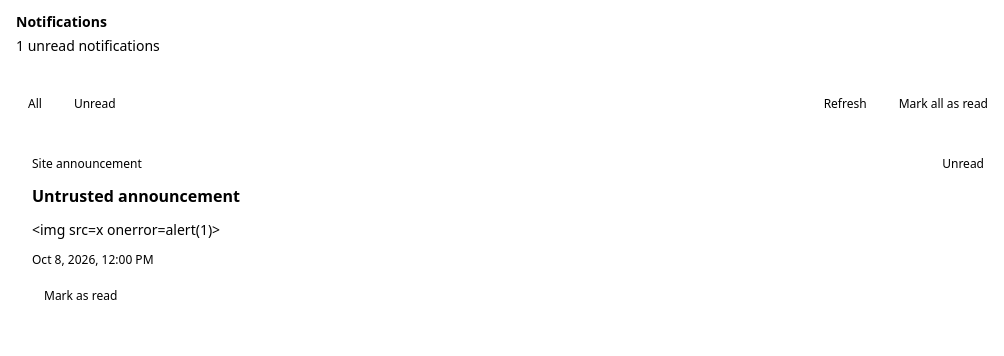
Notification publishing and inbox › renders announcement markup as text and keeps an unread item visible when marking it fails
Check: the text "<img src=x onerror=alert(1)>" is shown, box [32,220,220,239]
Click the button "Mark as read".
click(81, 296)  # box [32,280,129,312]
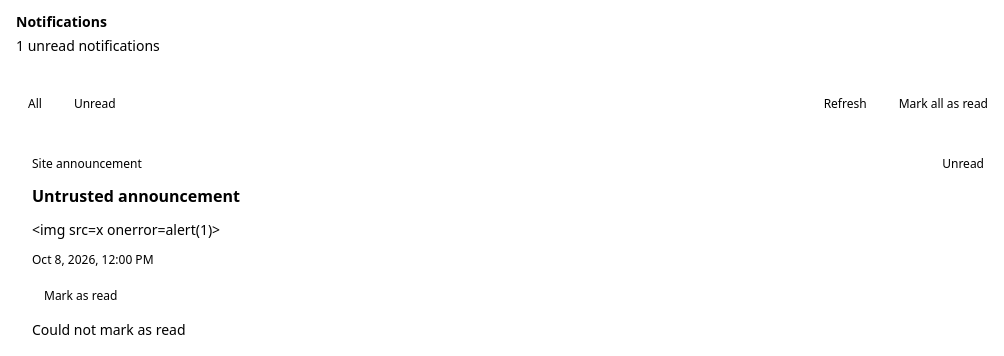
Check: the heading "Untrusted announcement" is shown, box [32,185,240,207]
Check: the message reads "Could not mark as read", box [32,320,186,339]
